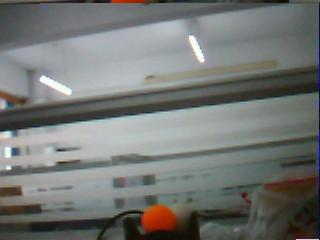oball: (142, 205, 175, 231)
